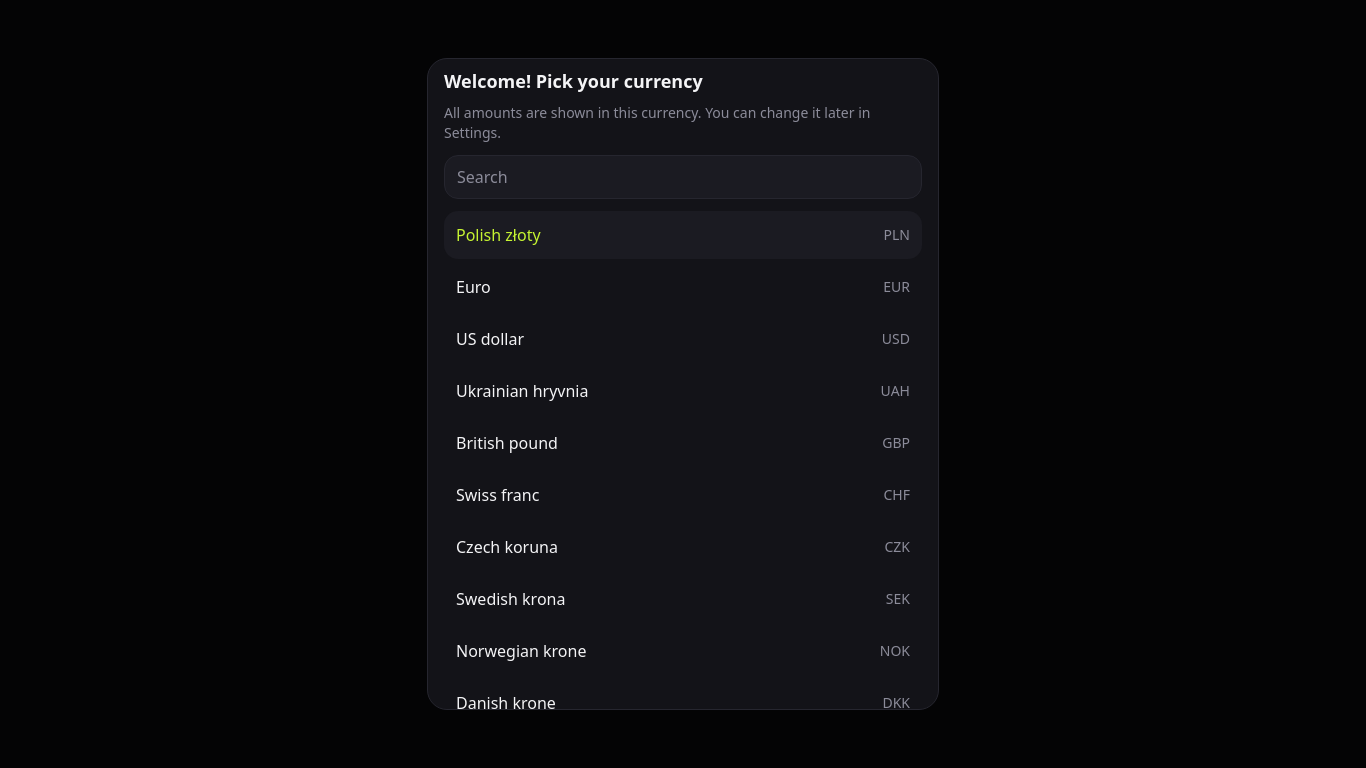
Scenario: FirstRunGate › reports how many default categories were added
The image size is (1366, 768).
Click the button "Polish złoty PLN" at (498, 235), box [444, 211, 922, 259]
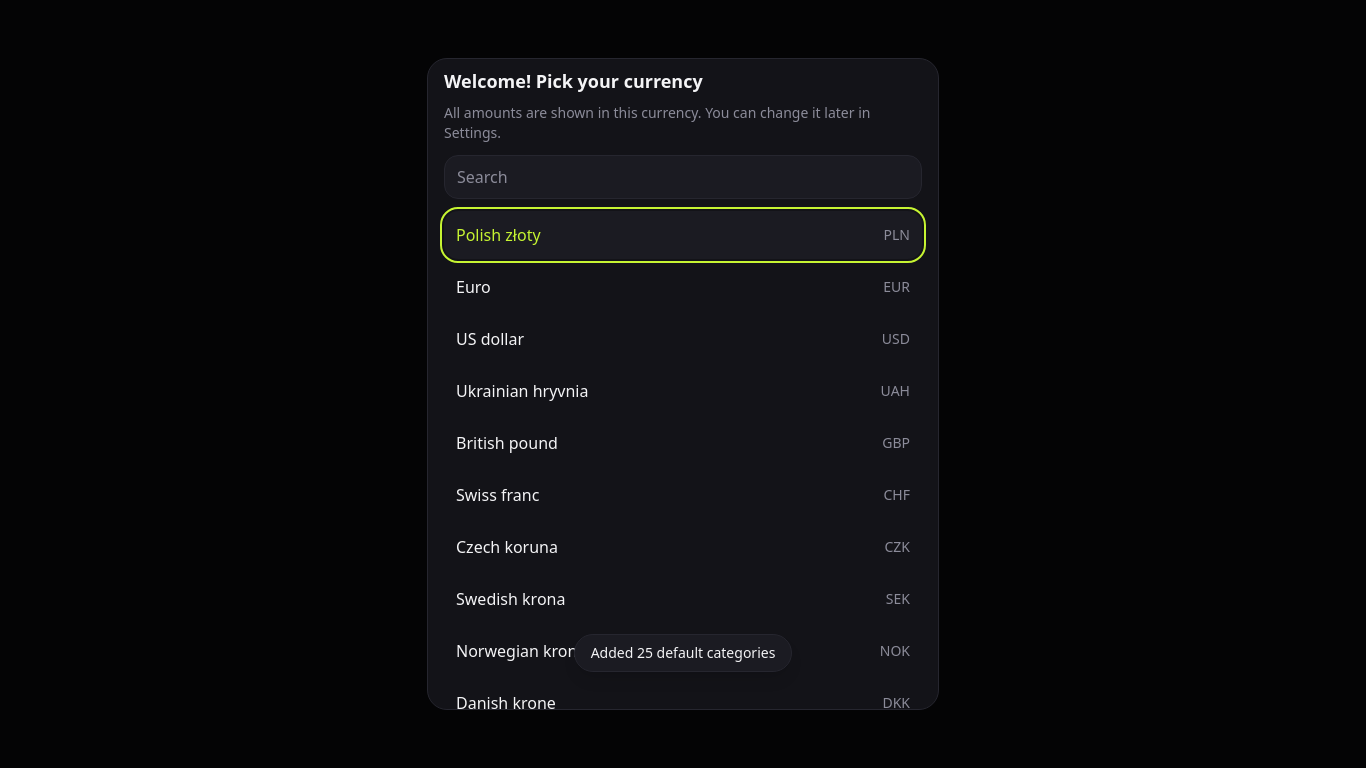
Check: the text "Added 25 default categories" is shown, box [574, 634, 792, 672]
